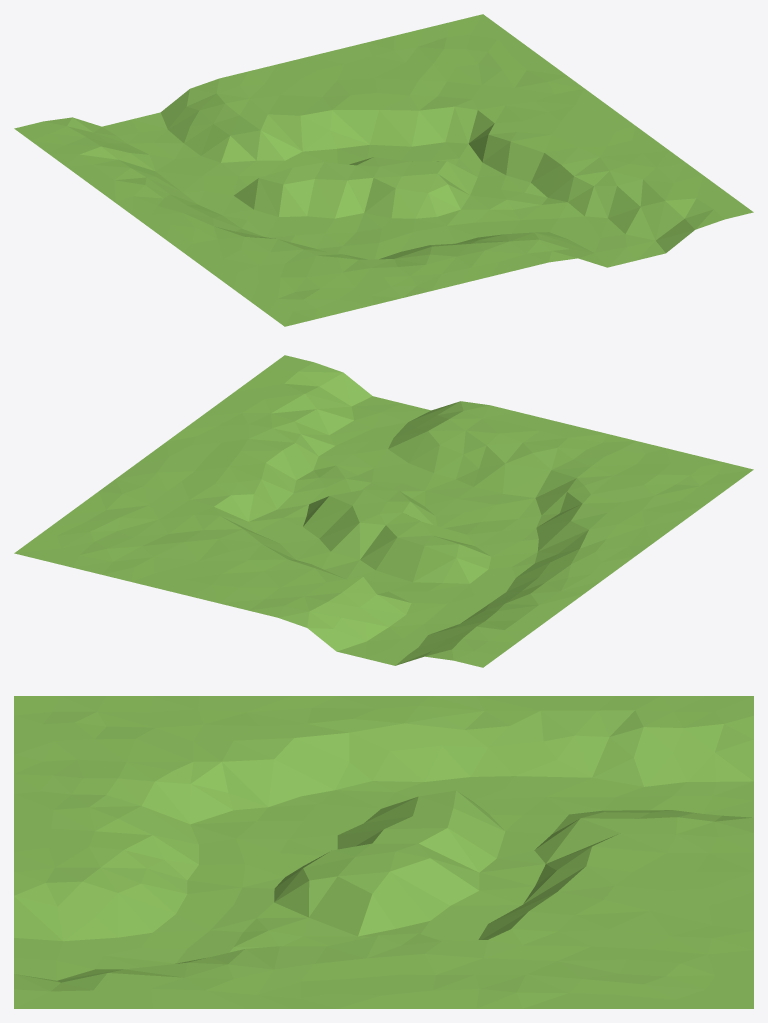
File: MT_River_M_c_04_R.fbx
The picture shows the model from 3 angles, top to bottom: view 1: azimuth 30°, elevation 25°; view 2: azimuth 150°, elevation 25°; view 3: azimuth 270°, elevation 25°; orthographic projection. The views are drawn at different scales.
Visible parts, largest first — view 1: MT_River_M_c_04_R; view 2: MT_River_M_c_04_R; view 3: MT_River_M_c_04_R.
Part boxes in pixels (x1,y1,x2,y2): MT_River_M_c_04_R: [14, 14, 753, 326]; MT_River_M_c_04_R: [14, 355, 753, 667]; MT_River_M_c_04_R: [14, 696, 753, 1008].
Bounding box in the file's own units: 5000 × 233 × 5000.
